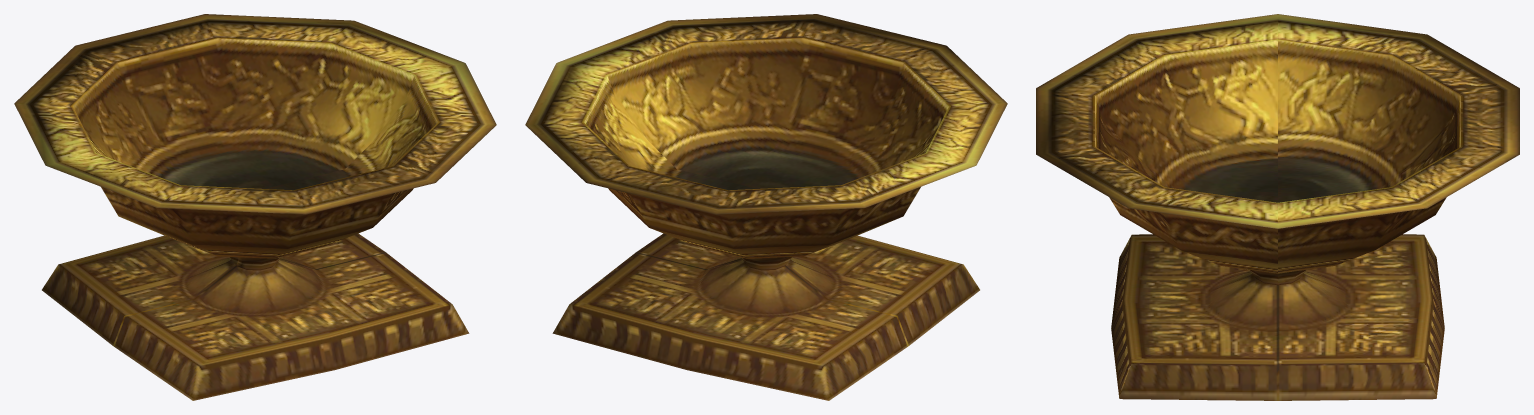
File: Dxlm_jinbi03.FBX
3 renders of one model, left to right at view 1: azimuth 30°, elevation 25°; view 2: azimuth 150°, elevation 25°; view 3: azimuth 270°, elevation 25°, orthographic. The views are drawn at different scales.
Visible parts, largest first — view 1: Dxlm_jinbi03; view 2: Dxlm_jinbi03; view 3: Dxlm_jinbi03.
Boxes of the visible parts, box(x1,y1,x2,y2) form: Dxlm_jinbi03: box(14, 14, 496, 400); Dxlm_jinbi03: box(525, 14, 1007, 400); Dxlm_jinbi03: box(1036, 14, 1519, 400).
Size of the model in its own units: 46.01 by 43.77 by 20.67.
